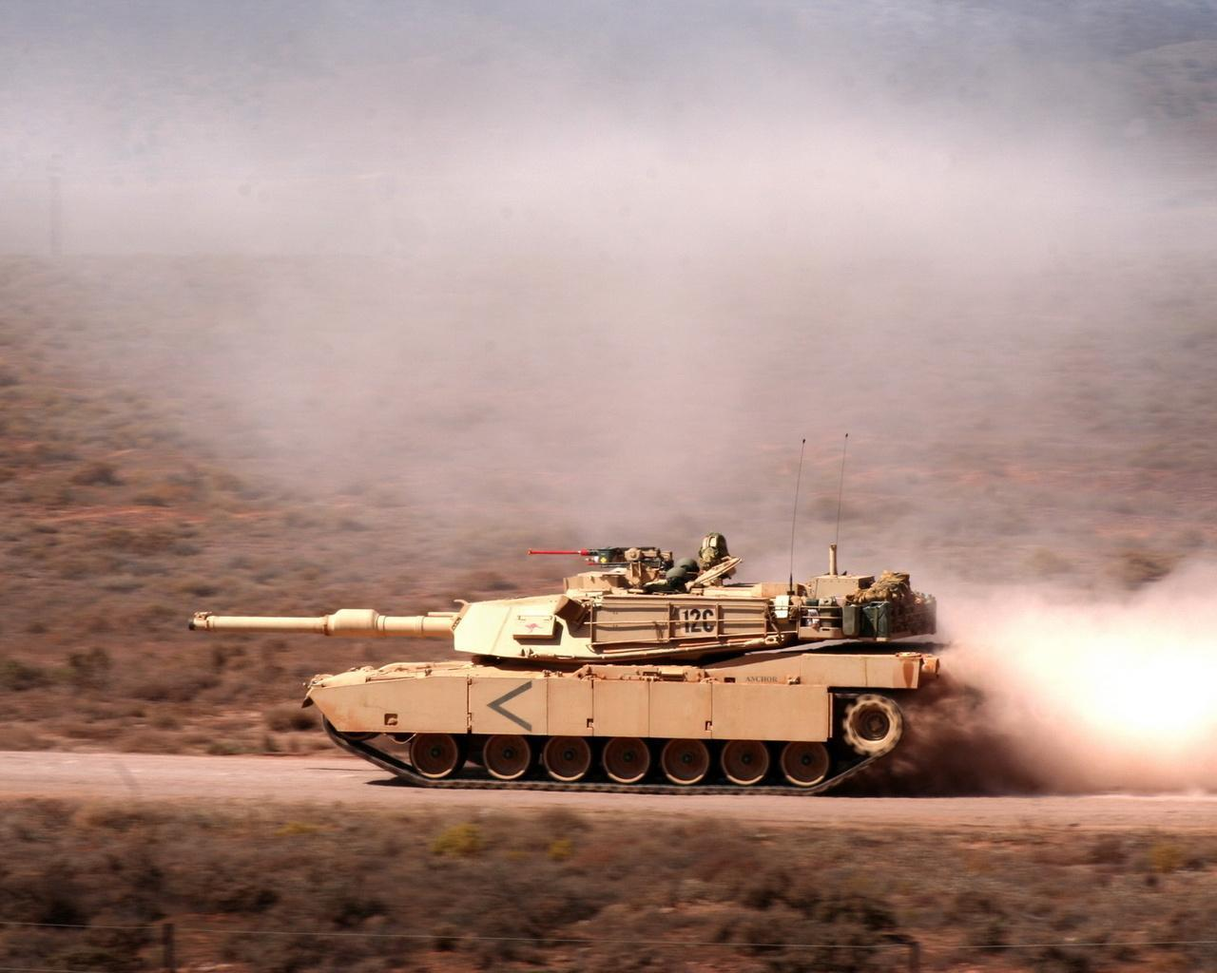tank: (184, 532, 978, 793)
